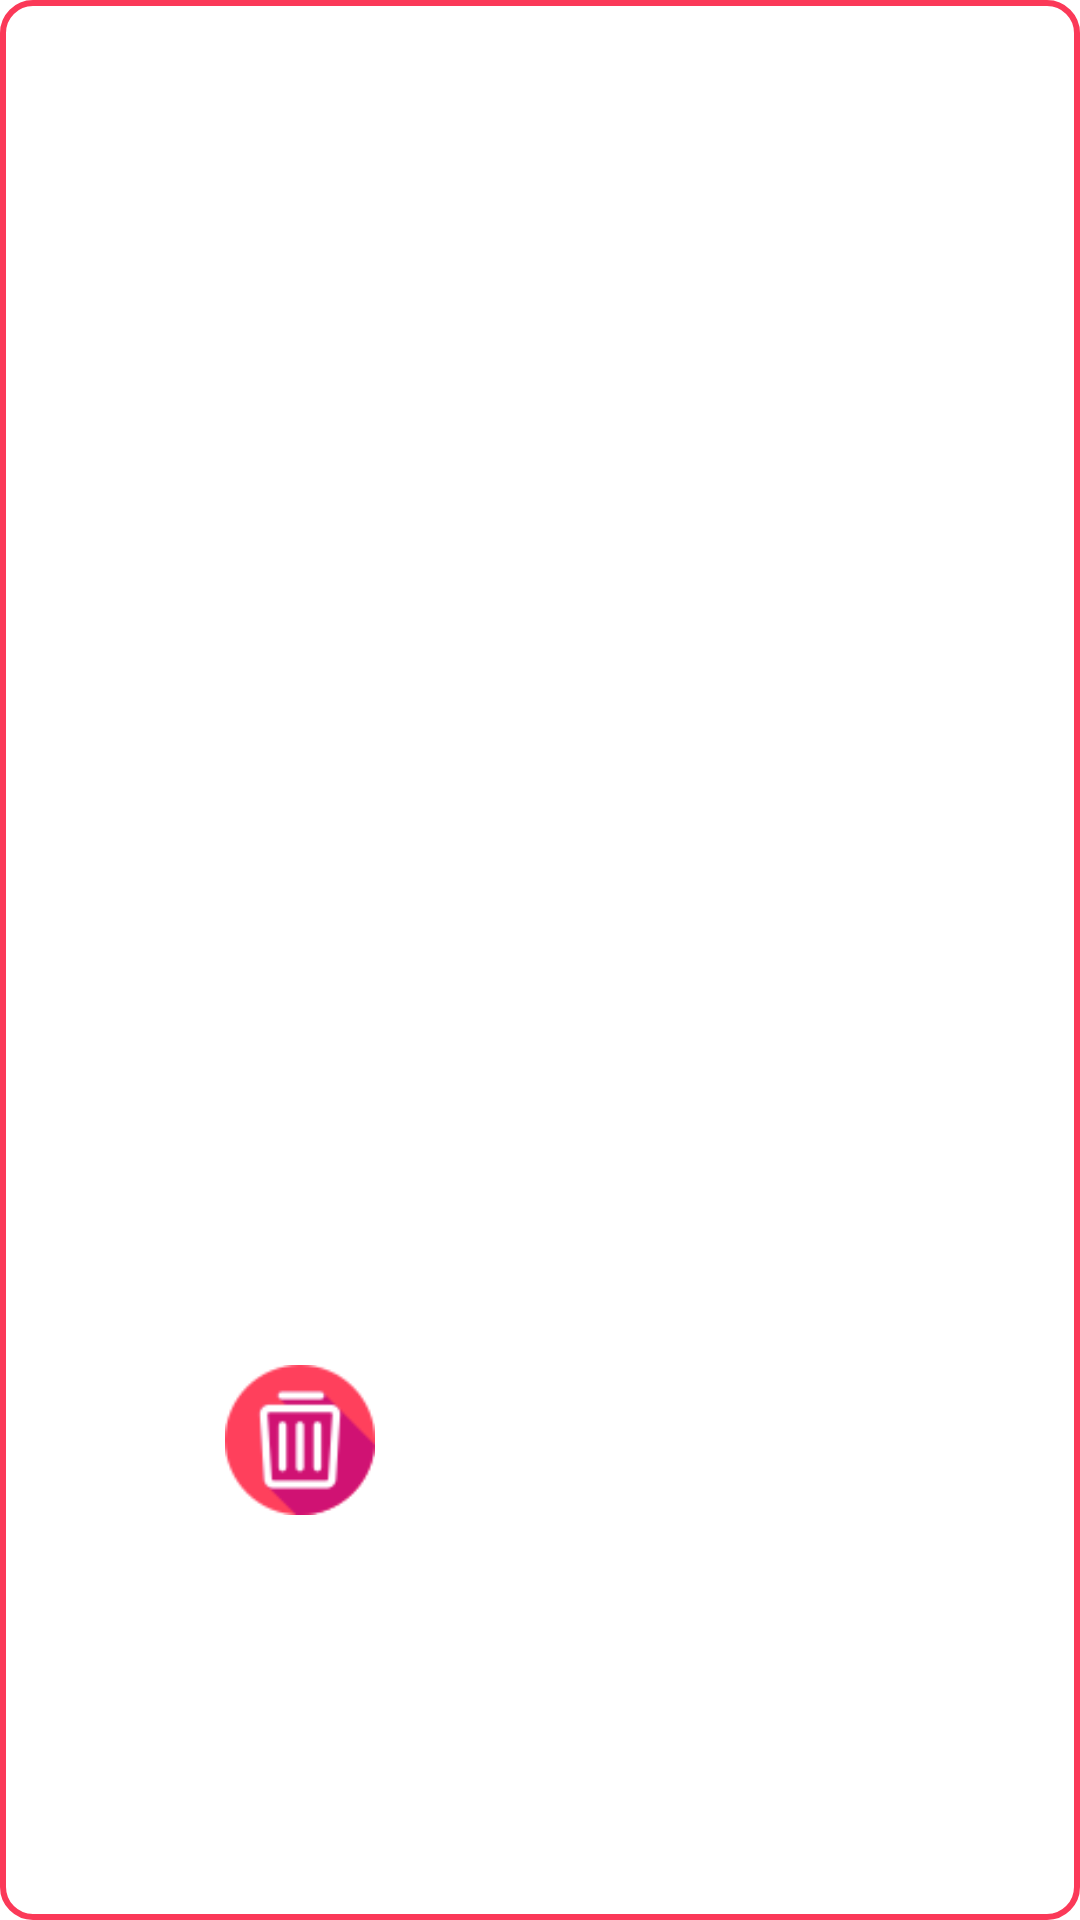

Where to tap for icons on this 1080 × 1920 app screen, as point (x, y):
delete: point (300, 1440)
